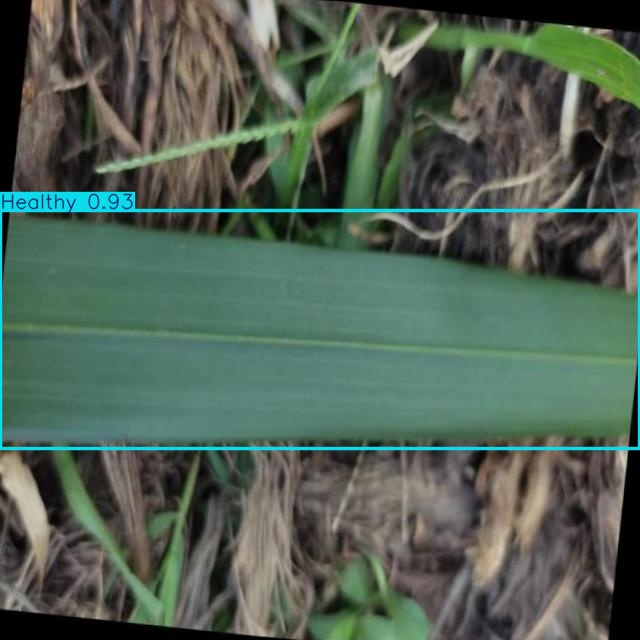Healthy: (0, 210, 640, 448)
